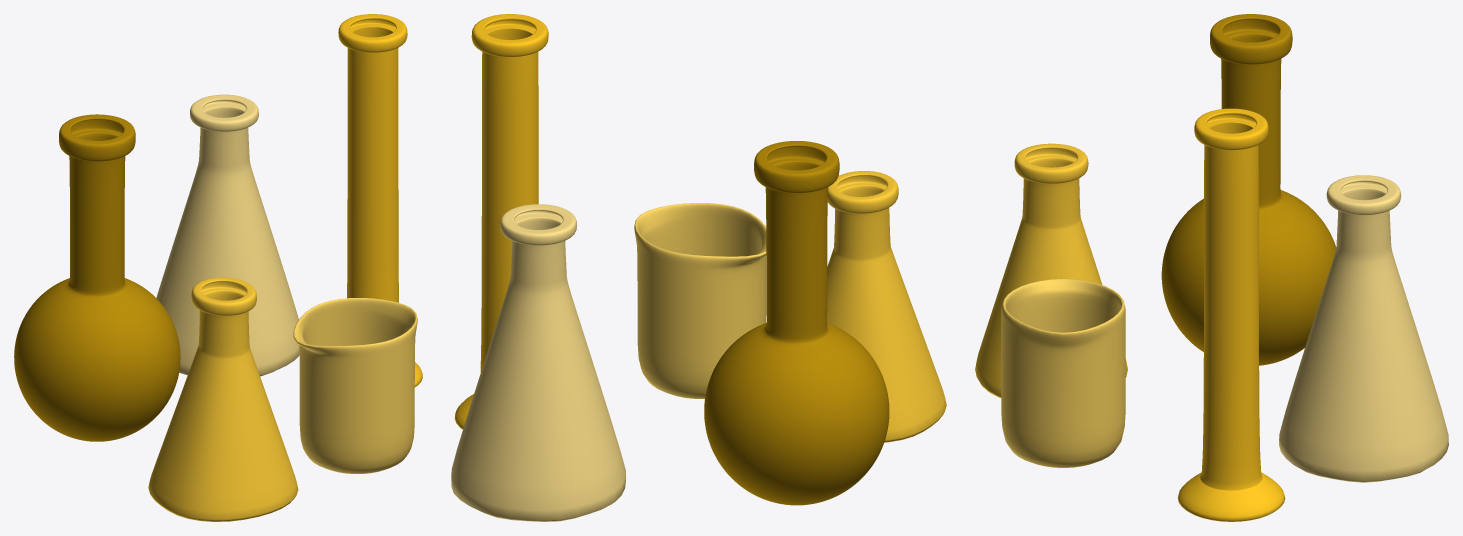
The model's file is Beaker_Group1.glb.
3 views of the same model, side by side, from view 1: azimuth 30°, elevation 25°; view 2: azimuth 150°, elevation 25°; view 3: azimuth 270°, elevation 25° (orthographic). The views are drawn at different scales.
Visible parts, largest first — view 1: pSphere1, pCylinder1, pCylinder6, pCylinder2, pCylinder5; view 2: pSphere1, pCylinder6, pCylinder2, pCylinder1, pCylinder5; view 3: pCylinder6, pCylinder5, pSphere1, pCylinder2, pCylinder1.
Part boxes in pixels (bbox=[...]): pSphere1: bbox=[14, 114, 180, 441]; pCylinder1: bbox=[148, 277, 298, 521]; pCylinder6: bbox=[156, 94, 299, 376]; pCylinder2: bbox=[293, 298, 417, 473]; pCylinder5: bbox=[338, 14, 422, 387]; pSphere1: bbox=[704, 141, 889, 505]; pCylinder6: bbox=[451, 204, 625, 521]; pCylinder2: bbox=[634, 203, 766, 399]; pCylinder1: bbox=[827, 171, 946, 442]; pCylinder5: bbox=[454, 14, 548, 429]; pCylinder6: bbox=[1279, 175, 1448, 482]; pCylinder5: bbox=[1177, 108, 1285, 521]; pSphere1: bbox=[1161, 14, 1336, 365]; pCylinder2: bbox=[1001, 278, 1125, 467]; pCylinder1: bbox=[975, 143, 1127, 397].
Size of the model in its own units: 1.91 by 1.69 by 1.9.
